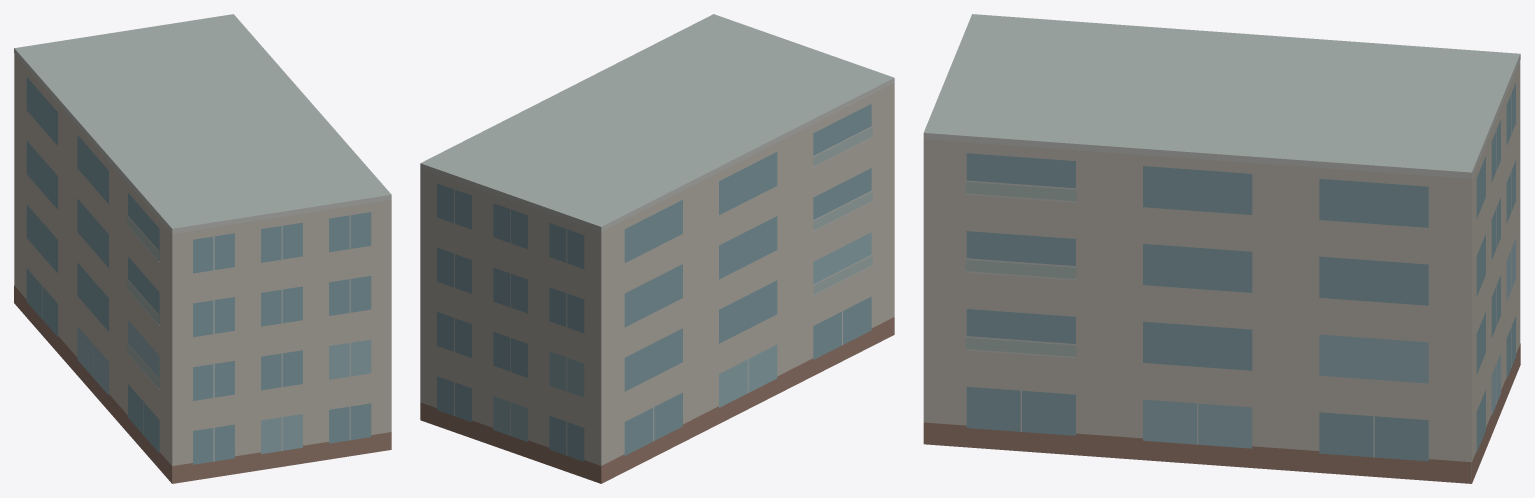
Rendered from survey-upis-32658427.glb.
3 views of the same model, side by side, from view 1: azimuth 30°, elevation 25°; view 2: azimuth 150°, elevation 25°; view 3: azimuth 270°, elevation 25° (orthographic). The views are drawn at different scales.
Parts seen in each view (by area): view 1: survey-upis-32658427.tmp; view 2: survey-upis-32658427.tmp; view 3: survey-upis-32658427.tmp.
Part boxes in pixels (left/top/right/bottom): survey-upis-32658427.tmp: left=14, top=14, right=391, bottom=483; survey-upis-32658427.tmp: left=420, top=14, right=894, bottom=483; survey-upis-32658427.tmp: left=923, top=14, right=1520, bottom=483.
Size of the model in its own units: 13.33 by 12.2 by 21.21.
